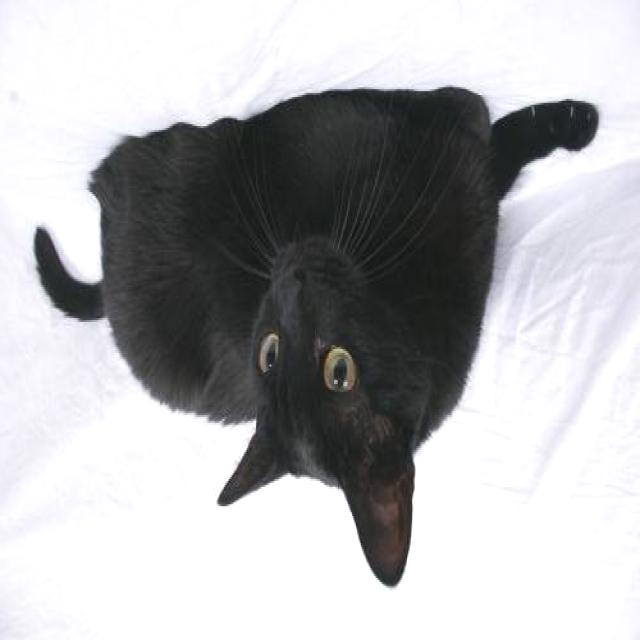Kucing: (1, 54, 592, 587)
